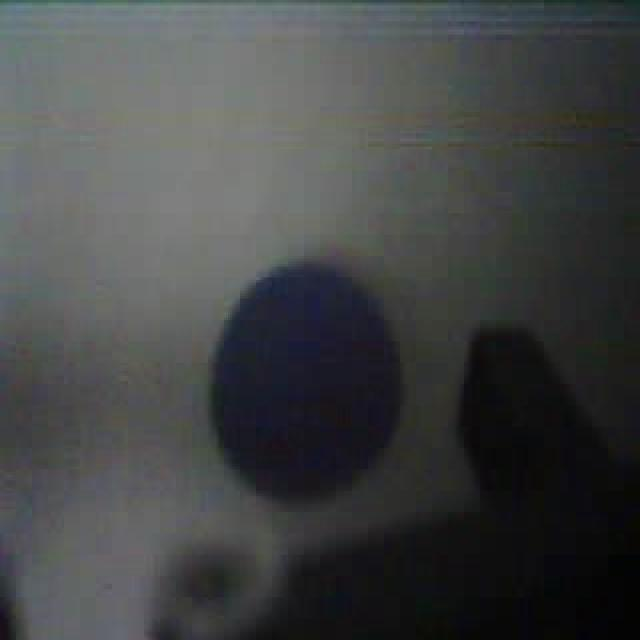blue_ball: (206, 253, 406, 504)
